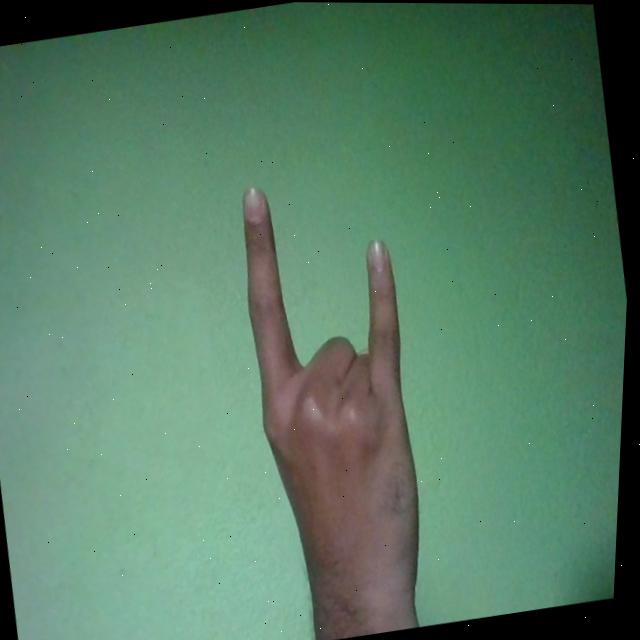Rock On: (220, 165, 456, 640)
